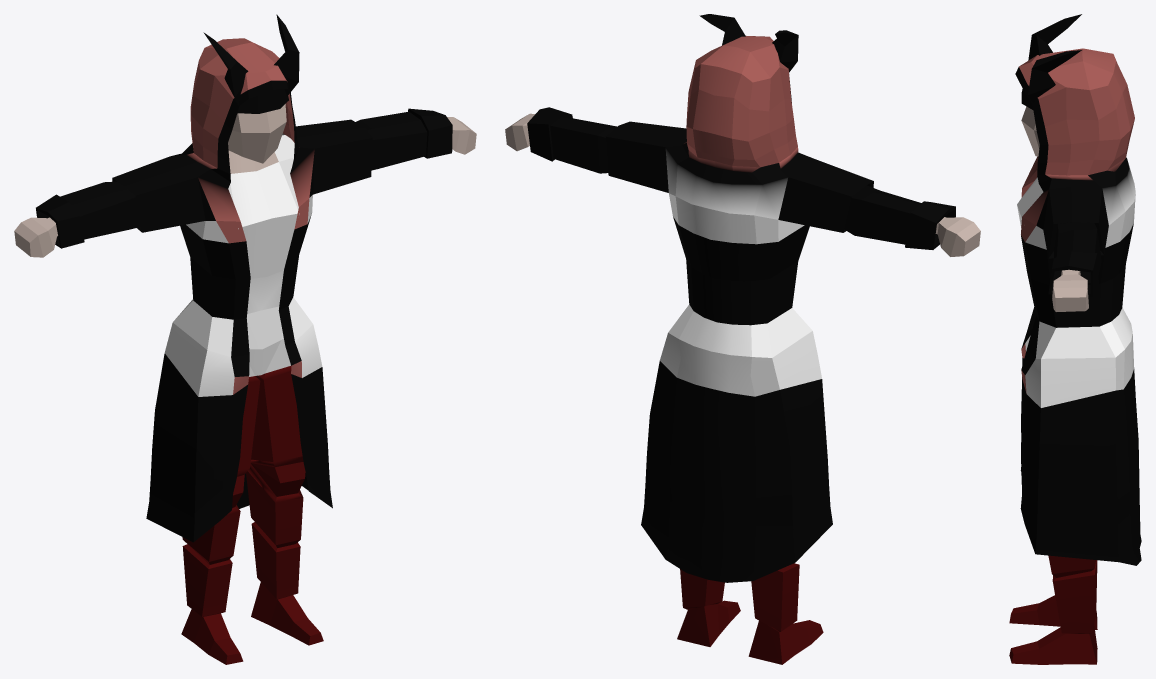
The model's file is HealerUnrigged.fbx.
3 views of the same model, side by side, from view 1: azimuth 30°, elevation 25°; view 2: azimuth 150°, elevation 25°; view 3: azimuth 270°, elevation 25° (orthographic). The views are drawn at different scales.
Parts seen in each view (by area): view 1: pCube17; view 2: pCube17; view 3: pCube17.
Boxes of the visible parts, x1=… form: pCube17: x1=14, y1=14, x2=476, y2=664; pCube17: x1=505, y1=14, x2=980, y2=664; pCube17: x1=1009, y1=14, x2=1141, y2=664.
Size of the model in its own units: 1.42 by 1.83 by 0.3611.
